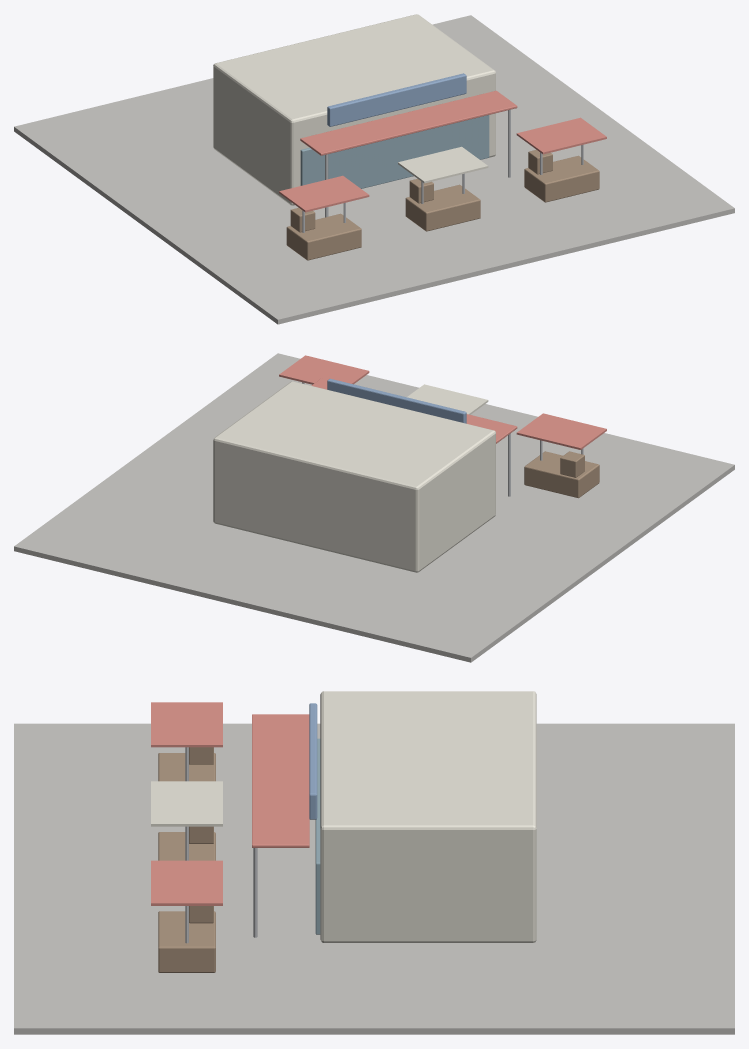
Rendered from retail.glb.
3 views of the same model, one above another, from view 1: azimuth 30°, elevation 25°; view 2: azimuth 150°, elevation 25°; view 3: azimuth 270°, elevation 25° (orthographic). The views are drawn at different scales.
Visible parts, largest first — view 1: Ground, Store, Storefront, Canopy, Sign, StallTable2, StallTable0, StallTable1, StallRoof0, StallRoof2, StallRoof1; view 2: Ground, Store, StallTable0, StallRoof0, Sign, StallRoof2, StallRoof1, Canopy, Crate0; view 3: Ground, Store, Canopy, StallRoof0, StallRoof1, StallRoof2, StallTable2, StallTable0, StallTable1, Sign, Storefront.
Part boxes in pixels (box(x1,y1,x2,y2)): Ground: box(14, 15, 734, 324); Store: box(213, 14, 495, 205); Storefront: box(300, 115, 489, 188); Canopy: box(300, 90, 517, 155); Sign: box(327, 73, 466, 126); StallTable2: box(524, 155, 599, 202); StallTable0: box(286, 213, 361, 260); StallTable1: box(405, 184, 480, 231); StallRoof0: box(279, 175, 369, 212); StallRoof2: box(516, 117, 606, 154); StallRoof1: box(398, 146, 488, 183); Ground: box(14, 353, 734, 662); Store: box(213, 381, 495, 572); StallTable0: box(524, 451, 599, 498); StallRoof0: box(516, 413, 606, 449); Sign: box(327, 378, 466, 423); StallRoof2: box(279, 355, 369, 384); StallRoof1: box(407, 384, 488, 414); Canopy: box(311, 378, 517, 443); Crate0: box(560, 451, 584, 477); Ground: box(14, 723, 734, 1034); Store: box(320, 691, 536, 942); Canopy: box(252, 714, 309, 847); StallRoof0: box(151, 702, 222, 747); StallRoof1: box(151, 781, 222, 826); StallRoof2: box(151, 860, 222, 905); StallTable2: box(158, 911, 215, 972); StallTable0: box(158, 753, 215, 781); StallTable1: box(158, 832, 215, 860); Sign: box(309, 703, 317, 819); Storefront: box(315, 738, 320, 934).
Bounding box in the file's own units: 20 × 4.1 × 20.
